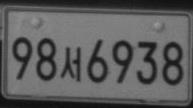3: (137, 41, 158, 84)
6: (86, 39, 108, 83)
8: (161, 40, 184, 85), (35, 37, 57, 81)
9: (112, 39, 134, 84), (10, 36, 32, 80)
서: (60, 46, 81, 82)
